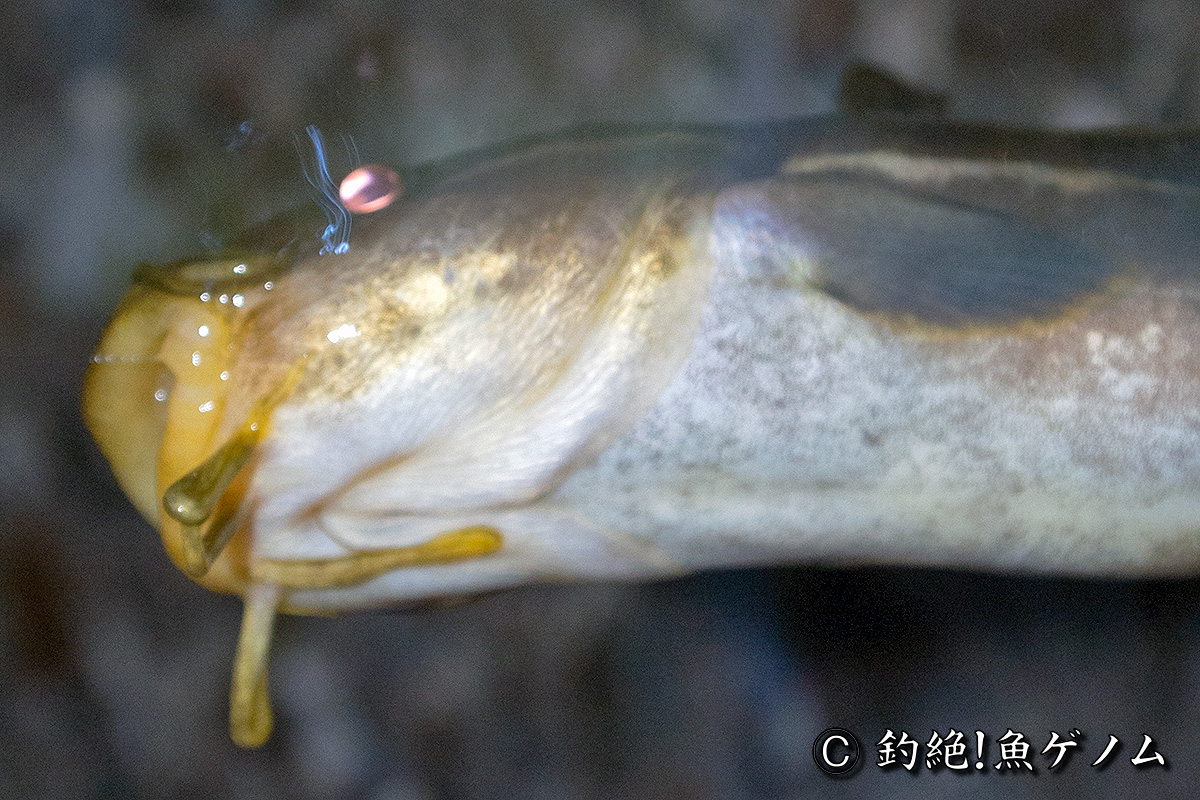gonzui: (65, 106, 1200, 644)
